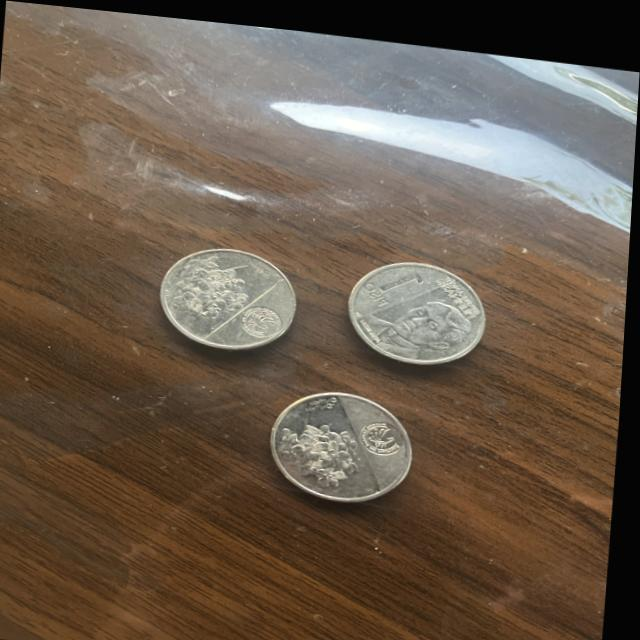1_New_Back: (163, 243, 265, 321), (285, 404, 372, 480)
1_New_Front: (359, 255, 432, 306)
